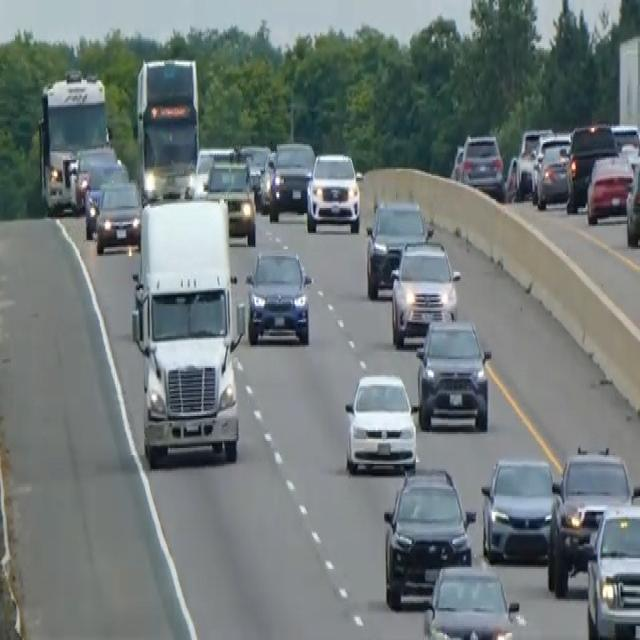bus: (36, 68, 111, 214), (133, 55, 201, 201)
car: (546, 443, 636, 597), (382, 464, 476, 608), (415, 316, 492, 432), (480, 454, 557, 564), (389, 236, 461, 346), (343, 370, 417, 474), (422, 562, 523, 638), (584, 500, 639, 638), (364, 195, 431, 298), (244, 247, 313, 345), (305, 149, 362, 233), (565, 121, 618, 211), (203, 157, 256, 246), (267, 138, 315, 220), (83, 158, 129, 238), (585, 149, 634, 224), (94, 178, 141, 254), (68, 142, 118, 210), (507, 126, 553, 199), (458, 130, 505, 197), (531, 133, 572, 208), (237, 142, 272, 206), (194, 142, 235, 192), (624, 155, 639, 247), (610, 121, 639, 153)
lorry: (129, 193, 244, 468)
